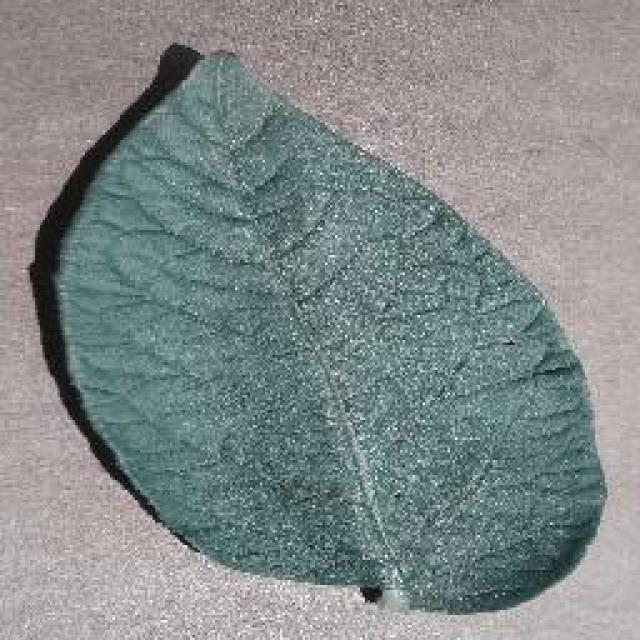Potato___healthy: (56, 52, 610, 619)
